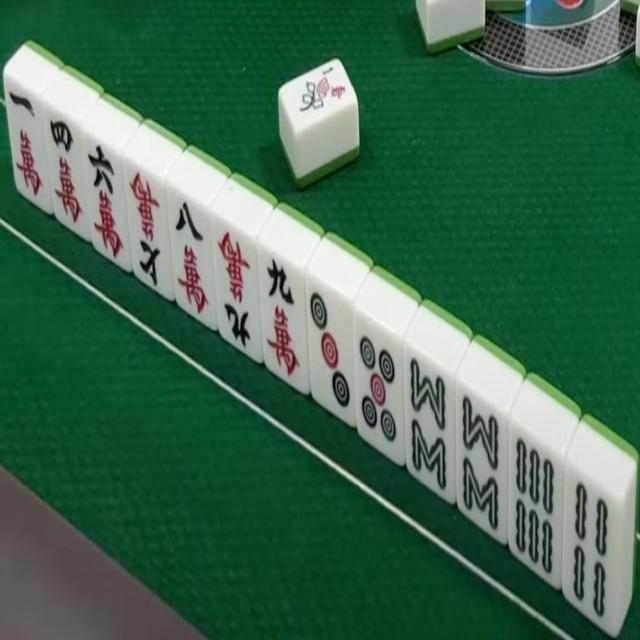ff1: (291, 50, 352, 136)
m1: (5, 87, 48, 200)
m4: (42, 112, 90, 229)
m6: (78, 139, 129, 268)
m7: (122, 163, 171, 294)
m8: (165, 193, 212, 319)
m9: (212, 223, 261, 355), (259, 252, 306, 385)
s4: (562, 471, 628, 634)
s6: (508, 430, 564, 576)
s8: (453, 392, 504, 541), (405, 352, 454, 497)
t3: (303, 287, 355, 421)
t5: (354, 324, 402, 456)
